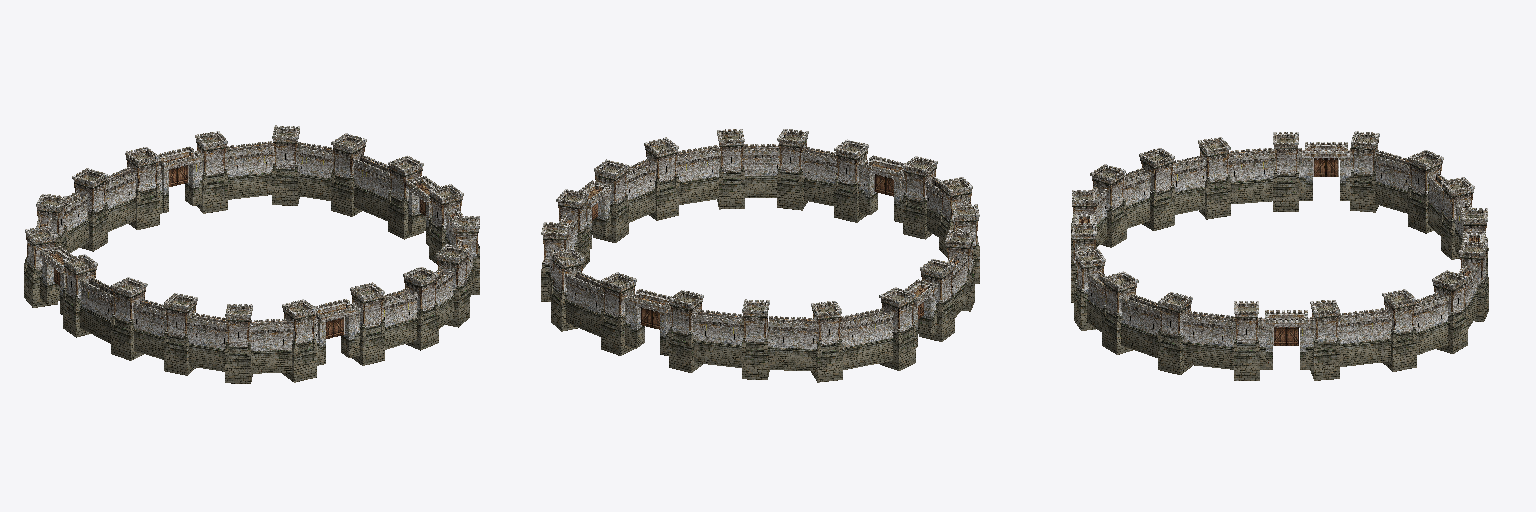
The picture shows the model from 3 angles: view 1: azimuth 30°, elevation 25°; view 2: azimuth 150°, elevation 25°; view 3: azimuth 270°, elevation 25°; orthographic projection.
Visible parts, largest first — view 1: rome_wall033; view 2: rome_wall033; view 3: rome_wall033.
Boxes of the visible parts, <box> form: rome_wall033: <box>24,125,479,383</box>; rome_wall033: <box>541,129,979,382</box>; rome_wall033: <box>1071,131,1488,380</box>.
Bounding box in the file's own units: 44.77 × 7.93 × 43.63.
Materials: 1 (1 with a texture image).